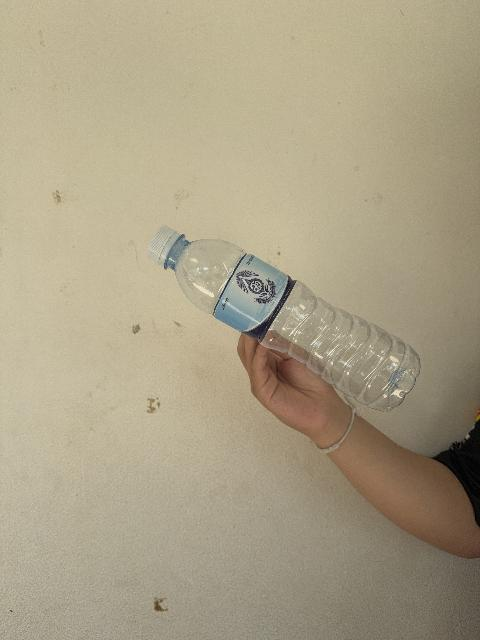bottle: (148, 227, 419, 411)
